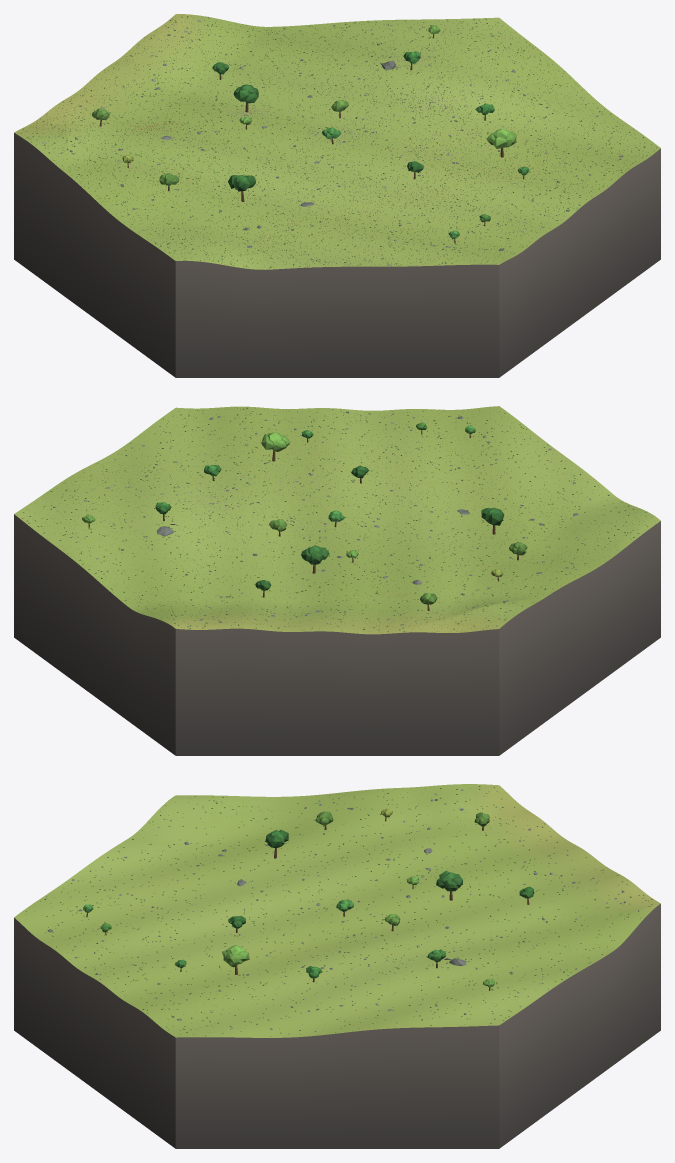
The picture shows the model from 3 angles, top to bottom: view 1: azimuth 30°, elevation 25°; view 2: azimuth 150°, elevation 25°; view 3: azimuth 270°, elevation 25°; orthographic projection.
Parts seen in each view (by area): view 1: terrain, hex_side_cut, wildflowers, shrubs, broadleaf_canopy, boulders; view 2: terrain, hex_side_cut, wildflowers, shrubs, broadleaf_canopy, boulders; view 3: terrain, hex_side_cut, shrubs, broadleaf_canopy, boulders.
Part boxes in pixels (x1=…): terrain: x1=14, y1=14, x2=660, y2=269; hex_side_cut: x1=14, y1=133, x2=660, y2=377; wildflowers: x1=23, y1=15, x2=656, y2=268; shrubs: x1=21, y1=16, x2=652, y2=267; broadleaf_canopy: x1=92, y1=25, x2=529, y2=239; boulders: x1=42, y1=20, x2=637, y2=265; terrain: x1=14, y1=406, x2=660, y2=634; hex_side_cut: x1=14, y1=514, x2=660, y2=755; wildflowers: x1=27, y1=407, x2=655, y2=631; shrubs: x1=22, y1=407, x2=648, y2=631; broadleaf_canopy: x1=82, y1=422, x2=527, y2=604; boulders: x1=43, y1=409, x2=626, y2=626; terrain: x1=14, y1=784, x2=660, y2=1037; hex_side_cut: x1=14, y1=904, x2=660, y2=1148; shrubs: x1=26, y1=786, x2=652, y2=1036; broadleaf_canopy: x1=83, y1=808, x2=534, y2=987; boulders: x1=47, y1=789, x2=643, y2=1031.
Size of the model in its own units: 4330 by 1204 by 5000.
